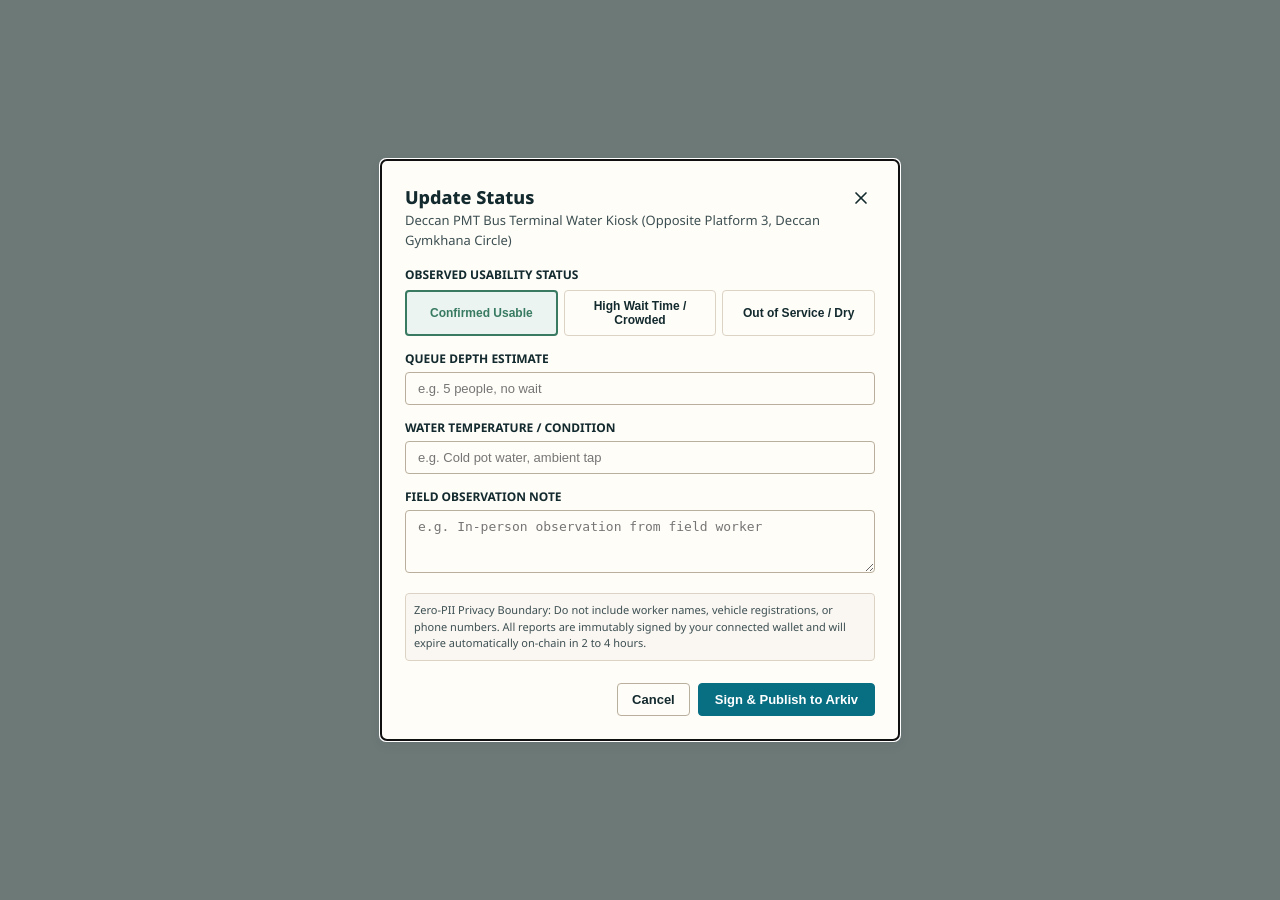
it: App and Modals Comprehensive Test Suite › ObservationModal › displays error message if publication fails
Click the button "Sign & Publish to Arkiv". click: coordinates (786, 699)
box: x1=698 y1=683 x2=875 y2=716
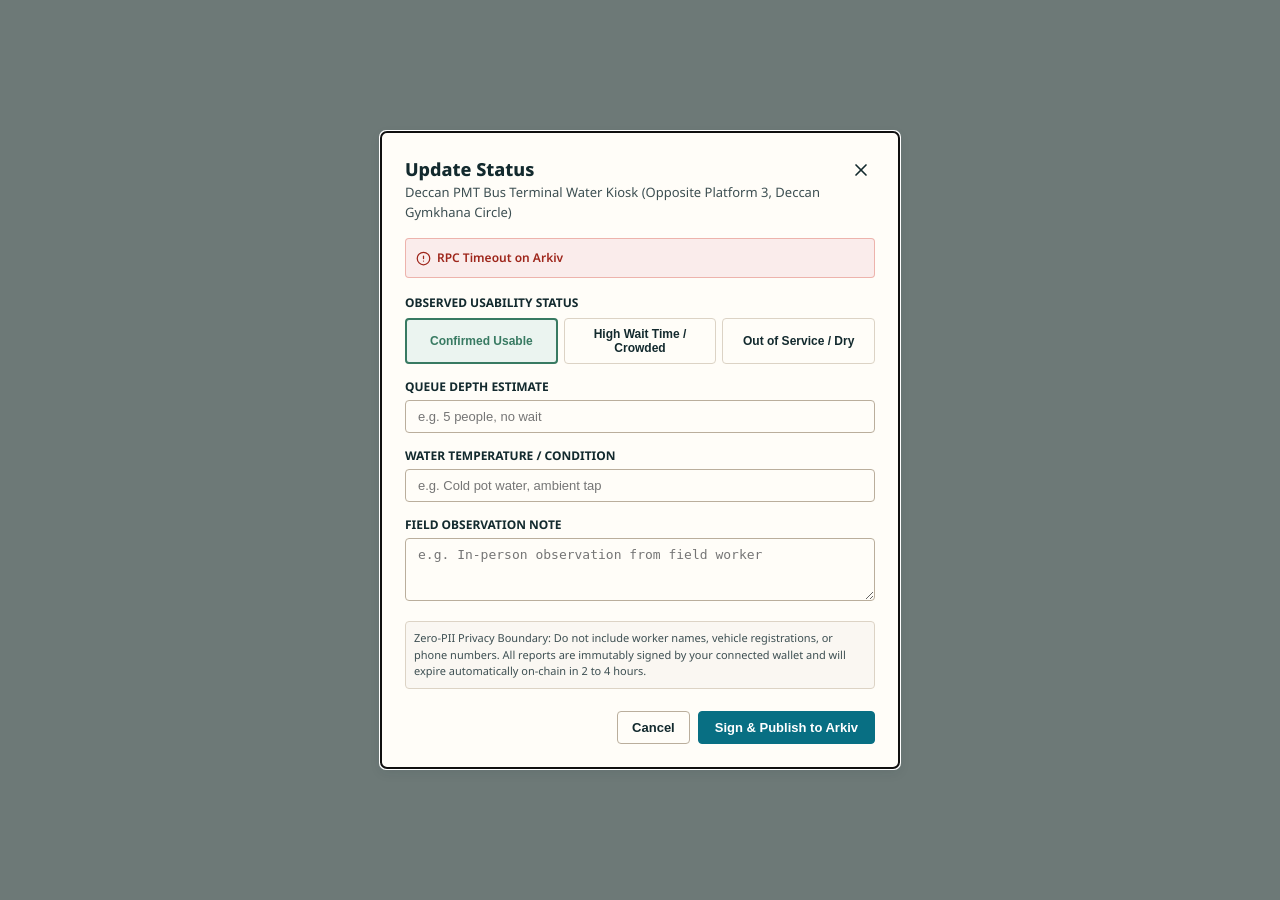
Expected: the text "RPC Timeout on Arkiv" is shown, x1=437 y1=249 x2=563 y2=267
